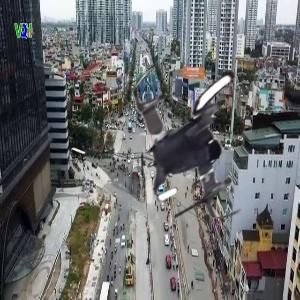drone: (113, 47, 295, 229)
